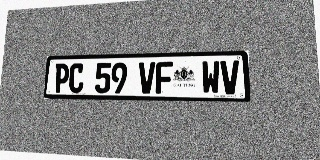5: (95, 63, 111, 93)
9: (111, 62, 127, 93)
C: (68, 63, 84, 93)
F: (155, 62, 173, 94)
P: (54, 63, 70, 93)
V: (220, 60, 240, 94), (138, 62, 155, 94)
W: (201, 61, 220, 94)
